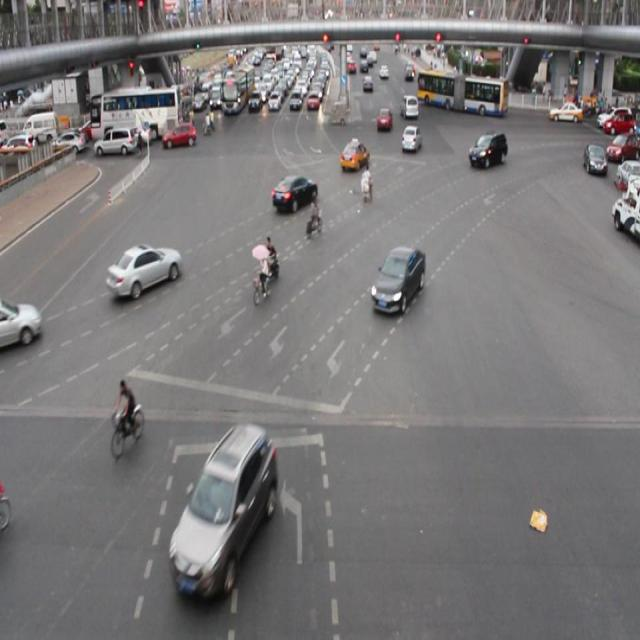car: (170, 426, 274, 592), (106, 242, 181, 300), (371, 245, 426, 312), (1, 294, 43, 352), (271, 173, 317, 215), (466, 131, 507, 171), (338, 138, 371, 173), (400, 124, 421, 155)
